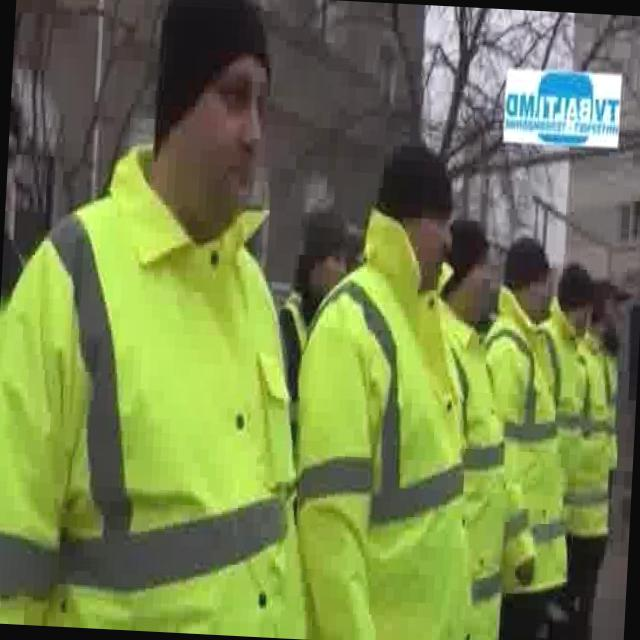vest: (0, 130, 332, 639), (283, 198, 497, 640), (479, 280, 584, 602), (424, 299, 518, 640), (533, 299, 600, 550), (580, 331, 618, 540)
